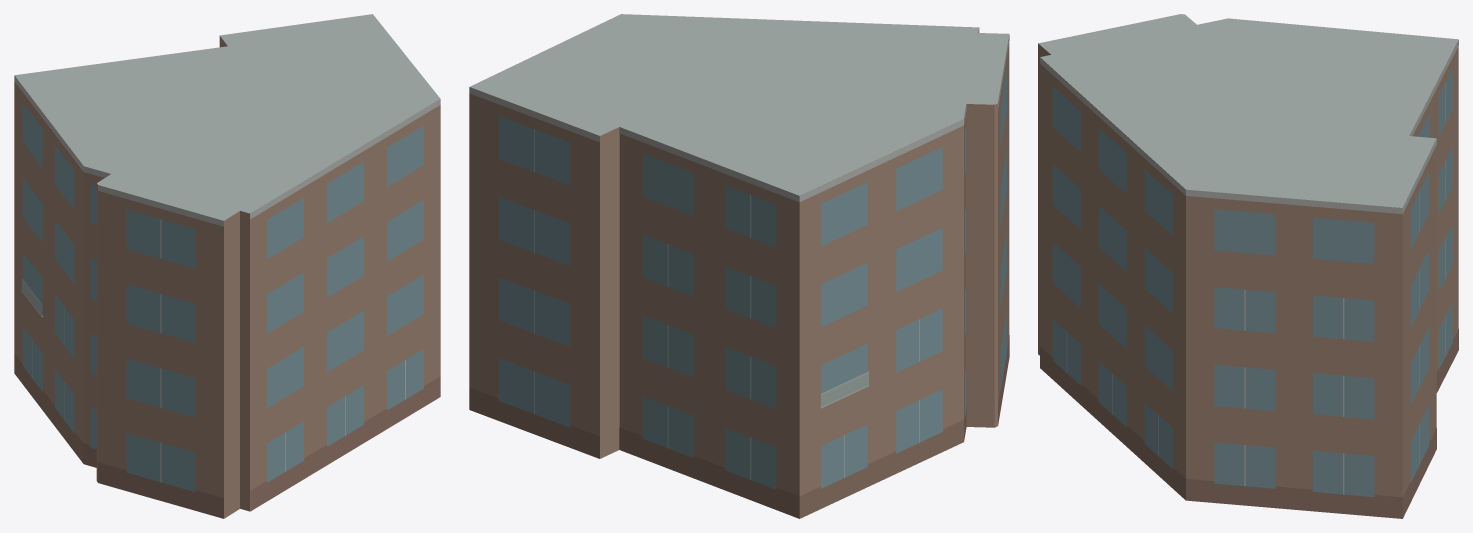
File: survey-upis-32777392.glb
3 renders of one model, left to right at view 1: azimuth 30°, elevation 25°; view 2: azimuth 150°, elevation 25°; view 3: azimuth 270°, elevation 25°, orthographic. The views are drawn at different scales.
Parts seen in each view (by area): view 1: survey-upis-32777392.tmp; view 2: survey-upis-32777392.tmp; view 3: survey-upis-32777392.tmp.
Part boxes in pixels (x1,y1,x2,y2): survey-upis-32777392.tmp: (14,14,440,518); survey-upis-32777392.tmp: (469,14,1009,518); survey-upis-32777392.tmp: (1038,14,1458,518).
Bounding box in the file's own units: 16.47 × 12.3 × 15.09.
